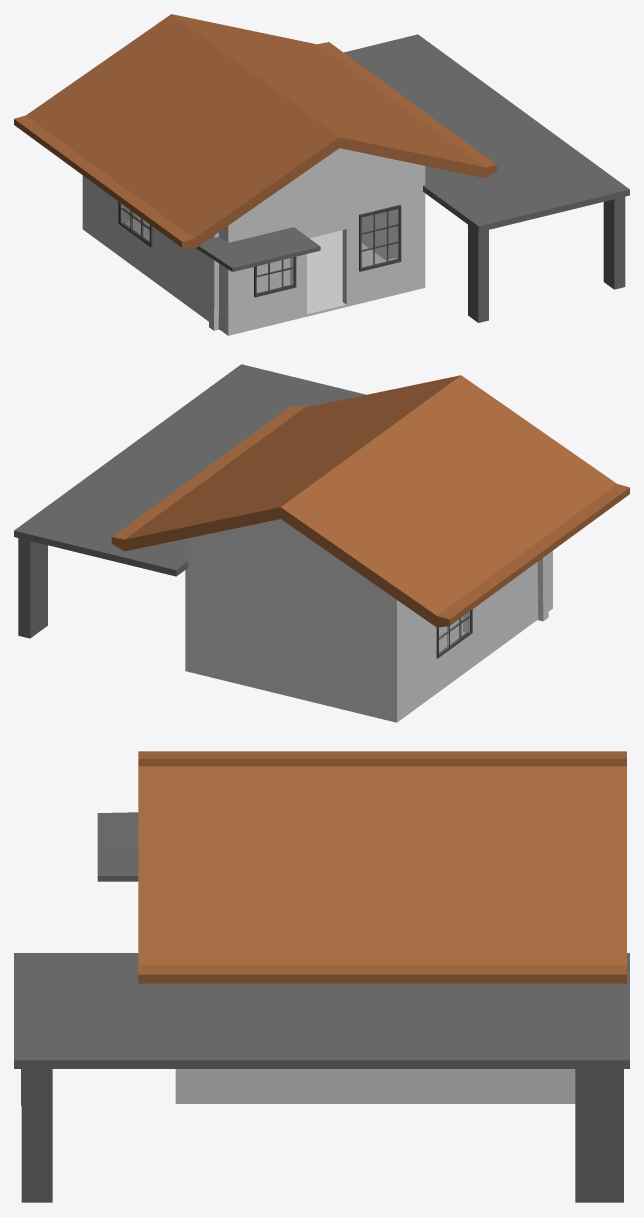
Rendered from Street House 4.fbx.
The picture shows the model from 3 angles, top to bottom: view 1: azimuth 30°, elevation 25°; view 2: azimuth 150°, elevation 25°; view 3: azimuth 270°, elevation 25°; orthographic projection. The views are drawn at different scales.
Visible parts, largest first — view 1: polySurface9, polySurface11, polySurface10, polySurface1; view 2: polySurface9, polySurface1; view 3: polySurface9.
Part boxes in pixels (<box>): polySurface9: <box>14,14,629,335</box>; polySurface11: <box>359,205,401,271</box>; polySurface10: <box>254,256,296,297</box>; polySurface1: <box>118,201,152,247</box>; polySurface9: <box>14,364,629,722</box>; polySurface1: <box>436,609,472,658</box>; polySurface9: <box>14,751,629,1202</box>.
Bounding box in the file's own units: 52.32 × 22.77 × 47.42.
